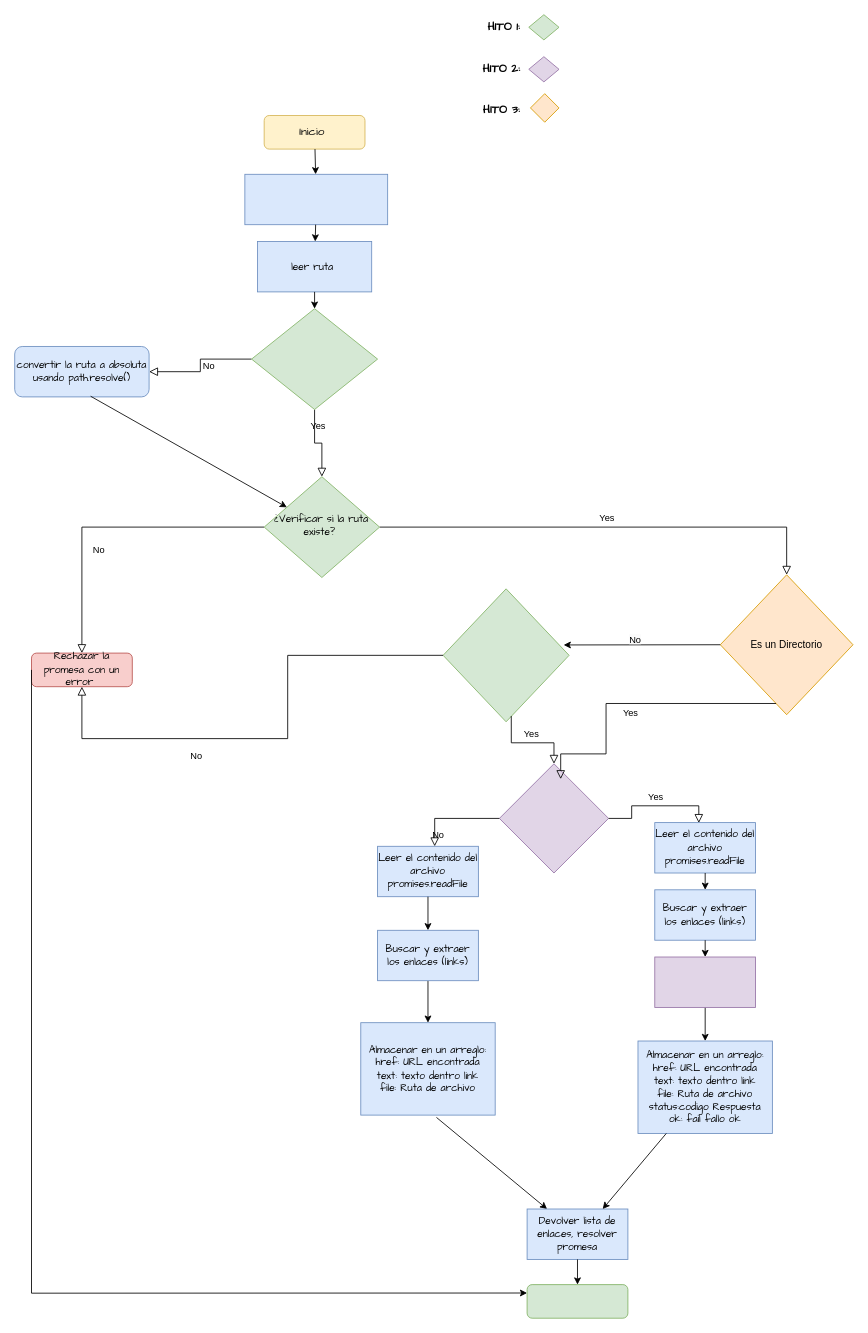
This 868x1333 diagram has some shape labels left out. The box of each missing label's shape, as (x1, y1, x2, y2) in pixels:
Archivo sea Markdown .md, .mkd, .mdown, .mdtext, .markdown, .text: (442, 588, 569, 722)
Craar promesa mdLinks(path, Validate): (244, 173, 388, 225)
Fin: (526, 1284, 628, 1318)
HTTP: (654, 956, 756, 1007)
Validate= true: (499, 763, 609, 873)
¿la ruta es absoluta?: (251, 308, 378, 410)
